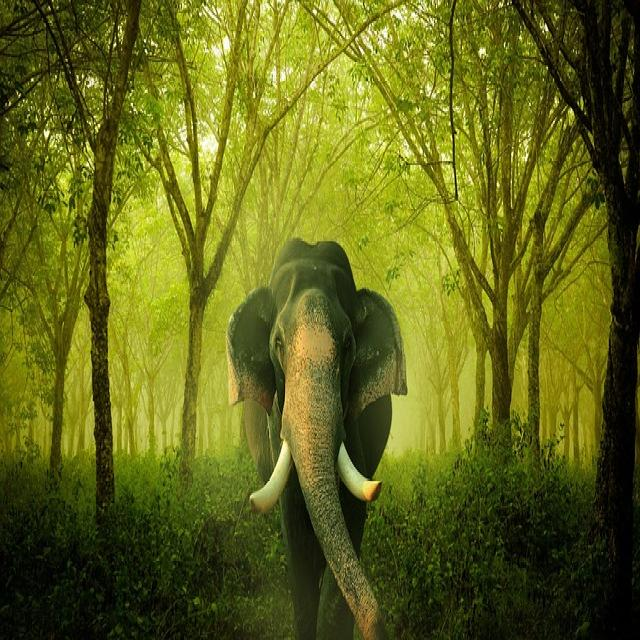elephant: (231, 240, 406, 640)
